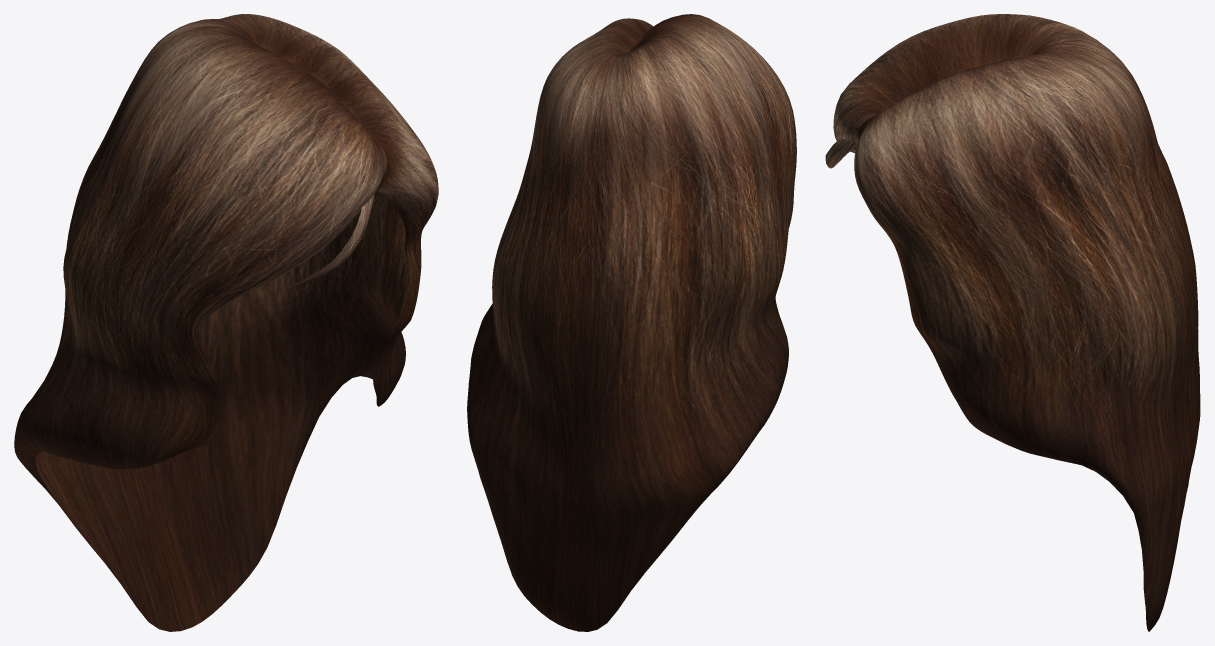
Rendered from HairModel.fbx.
The picture shows the model from 3 angles, left to right: view 1: azimuth 30°, elevation 25°; view 2: azimuth 150°, elevation 25°; view 3: azimuth 270°, elevation 25°; orthographic projection. The views are drawn at different scales.
Visible parts, largest first — view 1: h_wig; view 2: h_wig; view 3: h_wig.
Boxes of the visible parts, x1,y1,x2,y2 form: h_wig: (14,14,438,631); h_wig: (467,14,796,631); h_wig: (825,14,1200,631).
Size of the model in its own units: 24.37 by 44.31 by 25.43.
